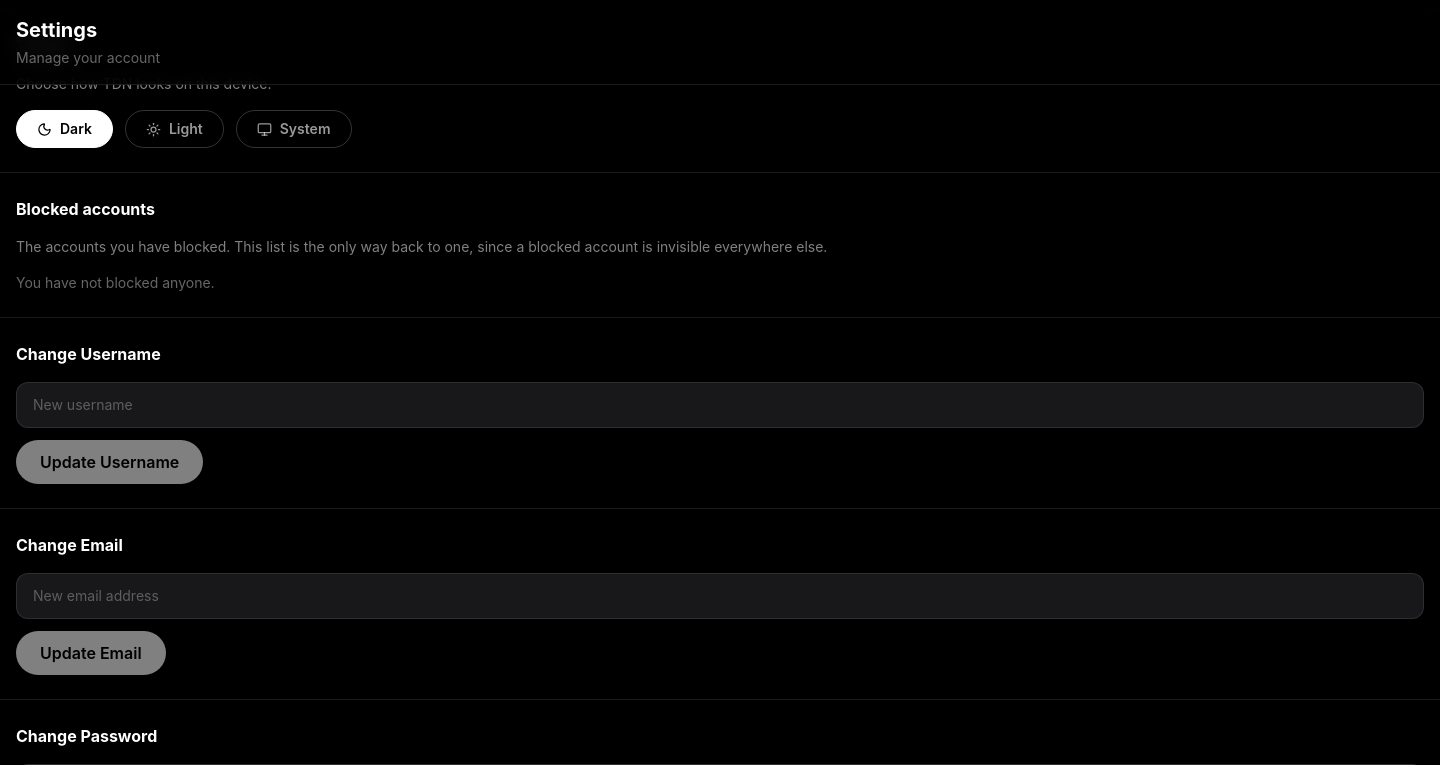
SettingsPage — change username › clears the field on a success that follows a failure
This screenshot has width=1440, height=765.
(page scrolled)
Type "taken" into the field with placeholder "New username" at (720, 405), box [16,382,1424,428]
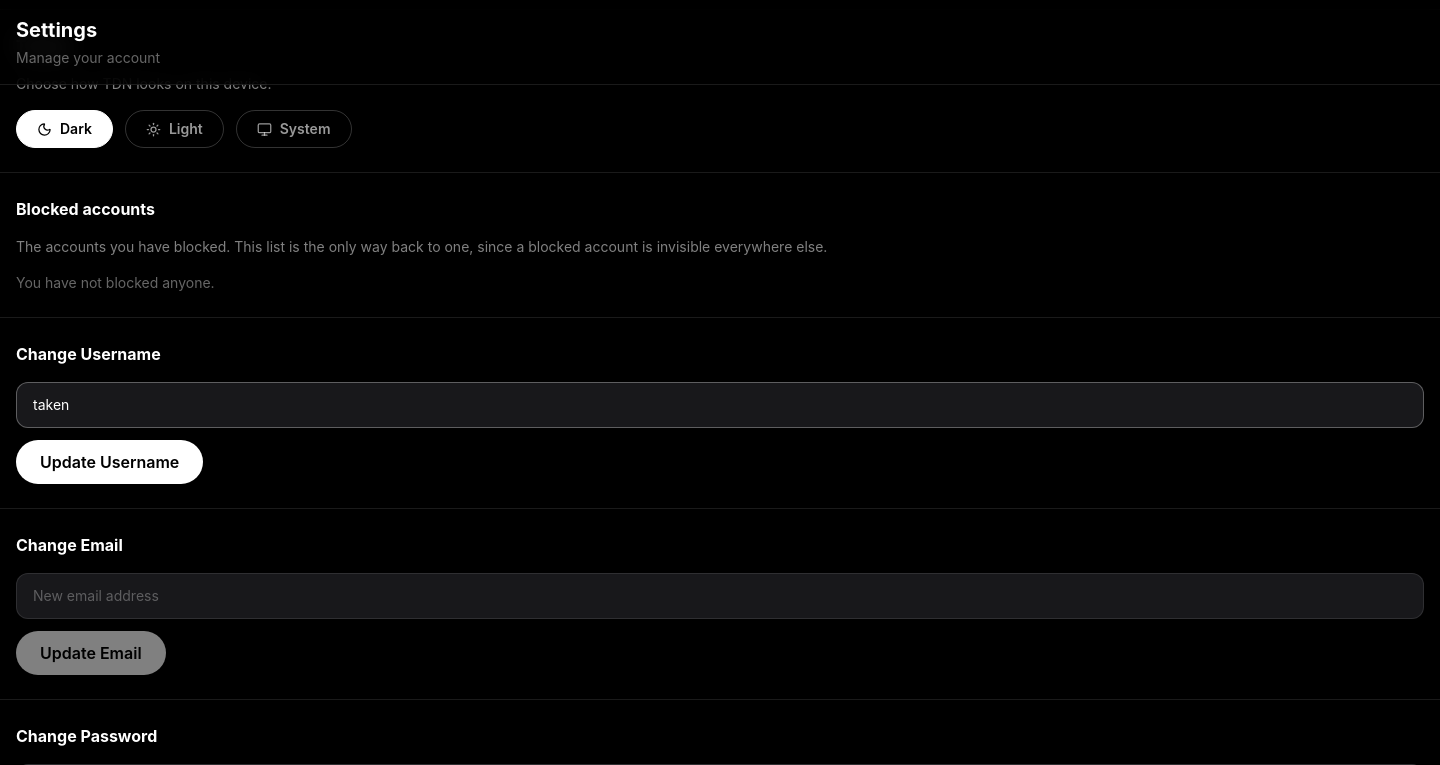
Click the button "Update Username" at (110, 462), box [16,440,203,484]
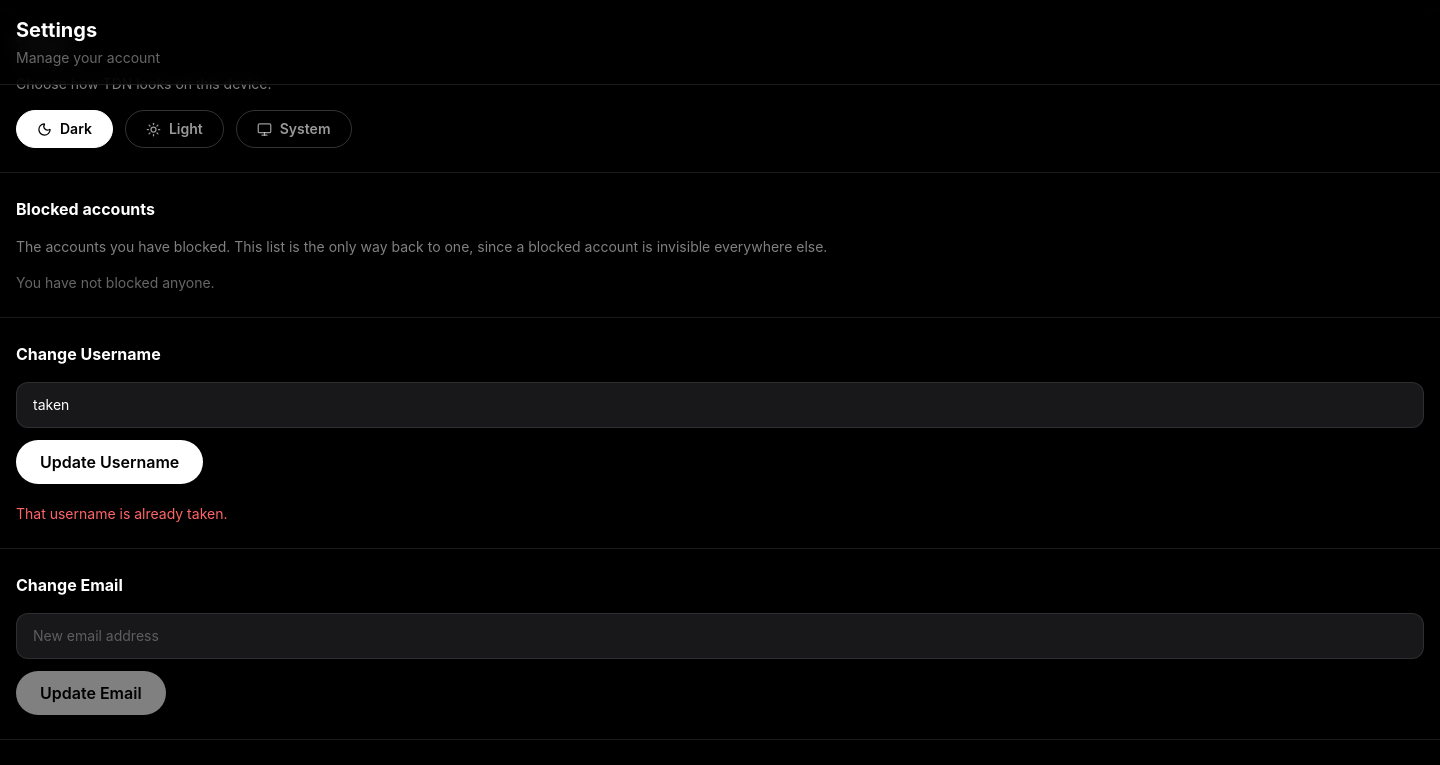
Expected: the text "That username is already taken." is shown, [16,505,228,522]
Replace the text in the field with placeholder "New username" with "available" at (720, 405), box [16,382,1424,428]
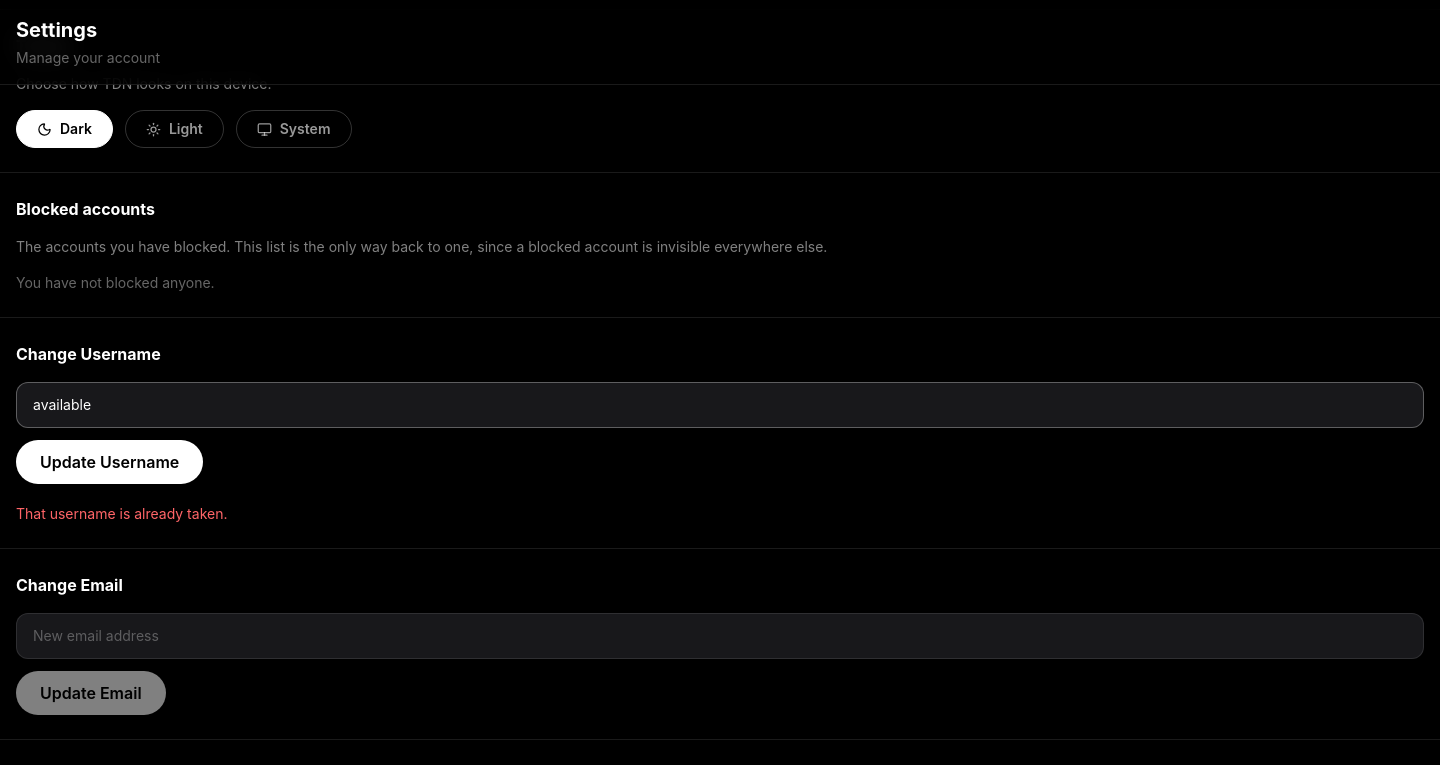
Click the button "Update Username" at (110, 462), box [16,440,203,484]
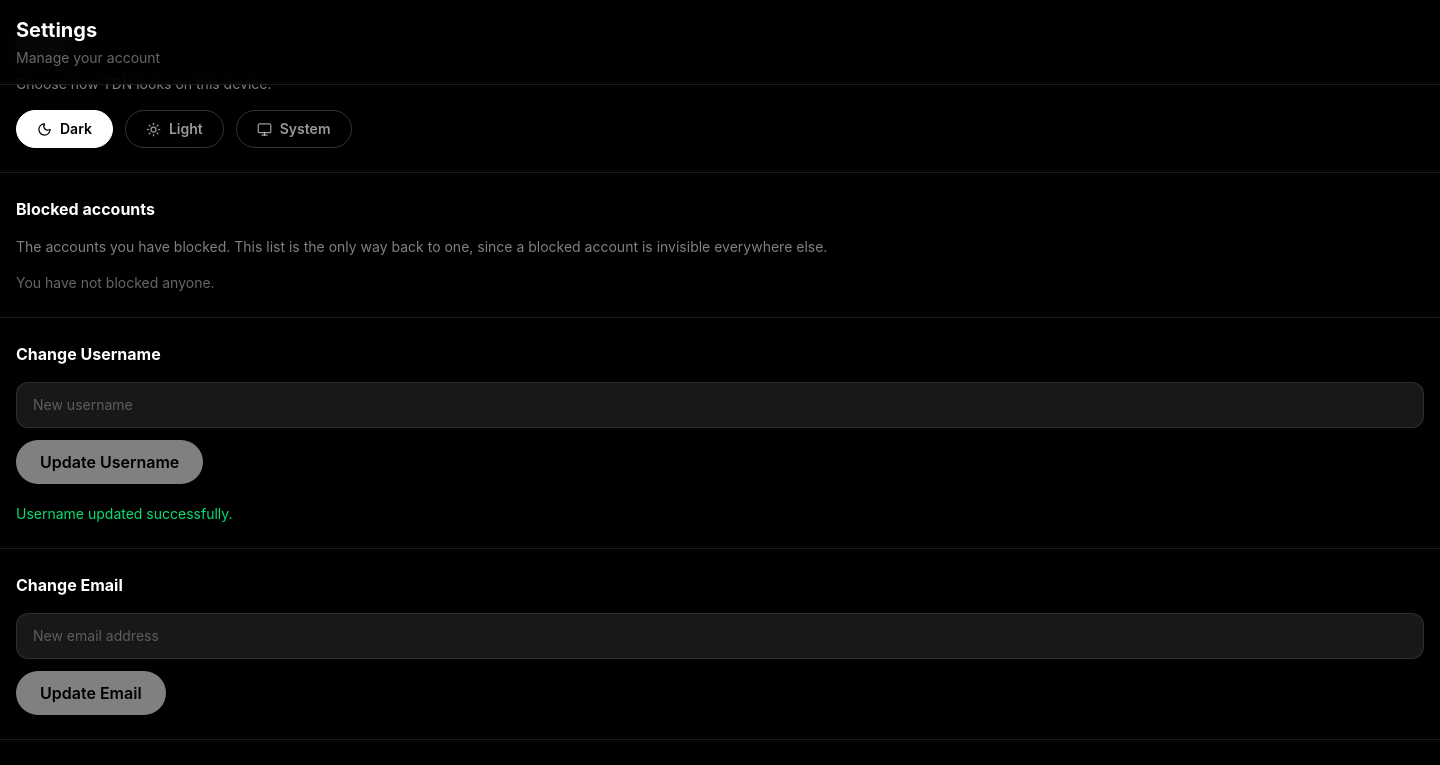
Expected: the text "Username updated successfully." is shown, [16,505,233,522]
